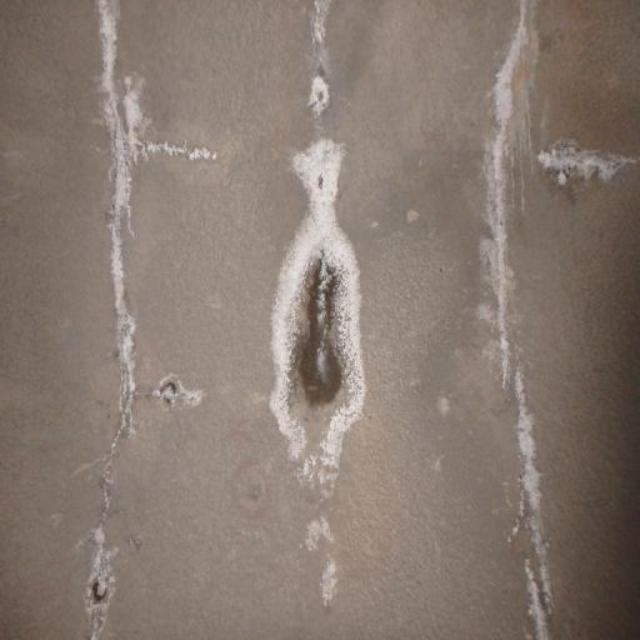D01: (90, 2, 180, 639), (482, 6, 553, 639), (270, 138, 365, 481), (486, 2, 533, 425), (538, 142, 639, 185)
